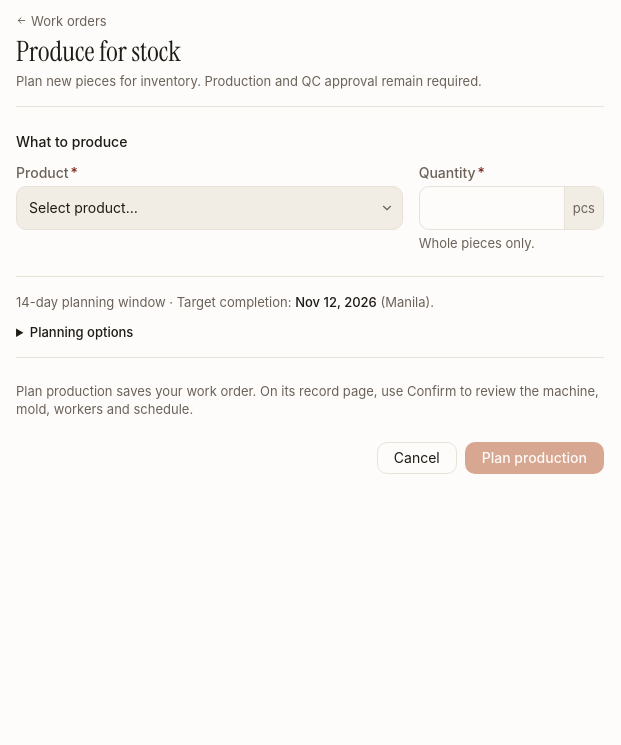
Scenario: preserves entered values after stale setup fails and refreshes product readiness
Select "PC-001 · Cover" in the dropdown labelled "Product*" at {"x": 209, "y": 208}, box [17,186,402,228]
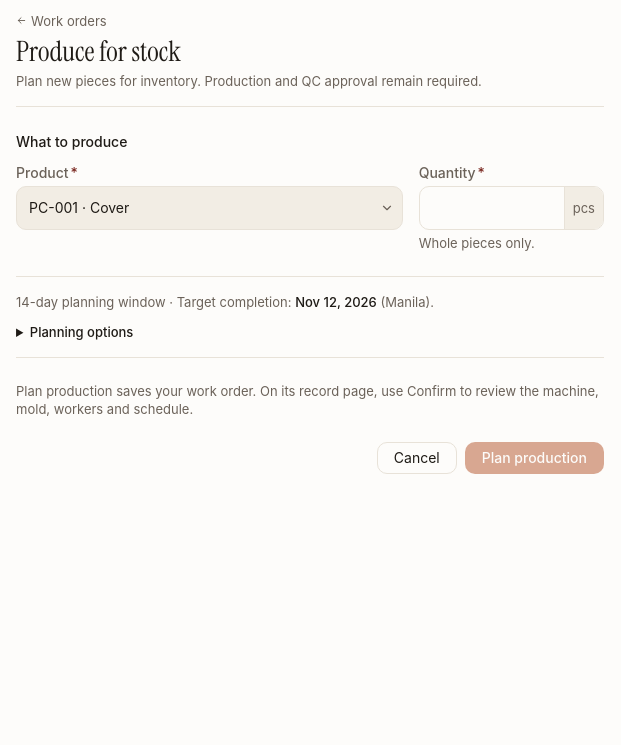
Type "3" into the number field labelled "Quantity*" at {"x": 492, "y": 208}, box [420,186,564,228]
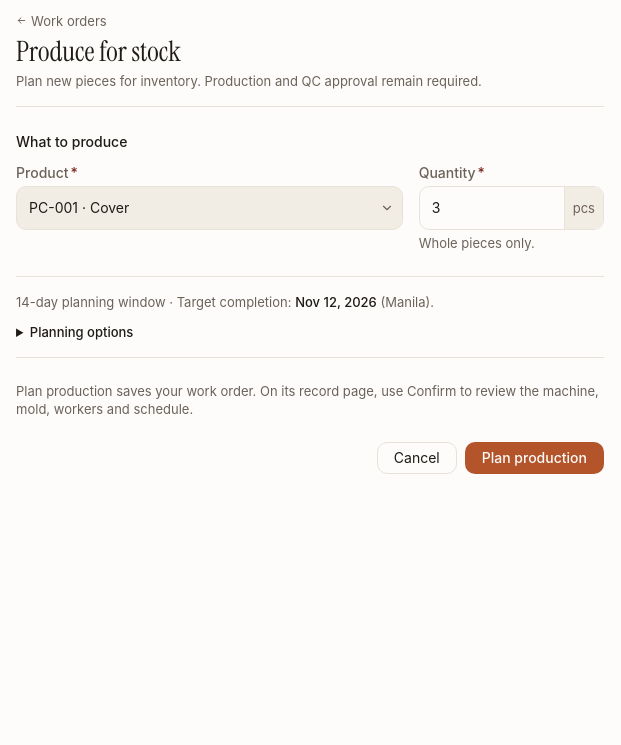
Click the heading "Planning options" at {"x": 75, "y": 332}, box [16,323,133,341]
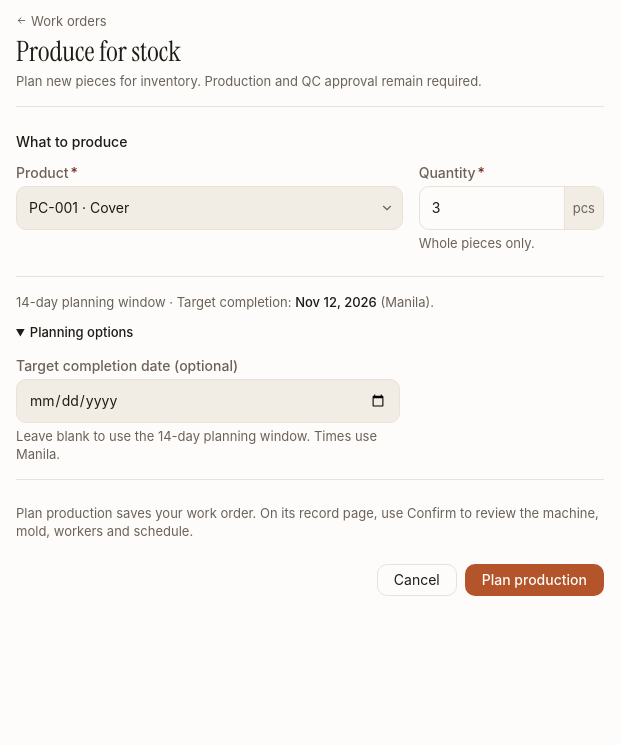
Type "2099-10-20" into the date field labelled "Target completion date (optional)" at {"x": 208, "y": 401}, box [17,380,399,422]
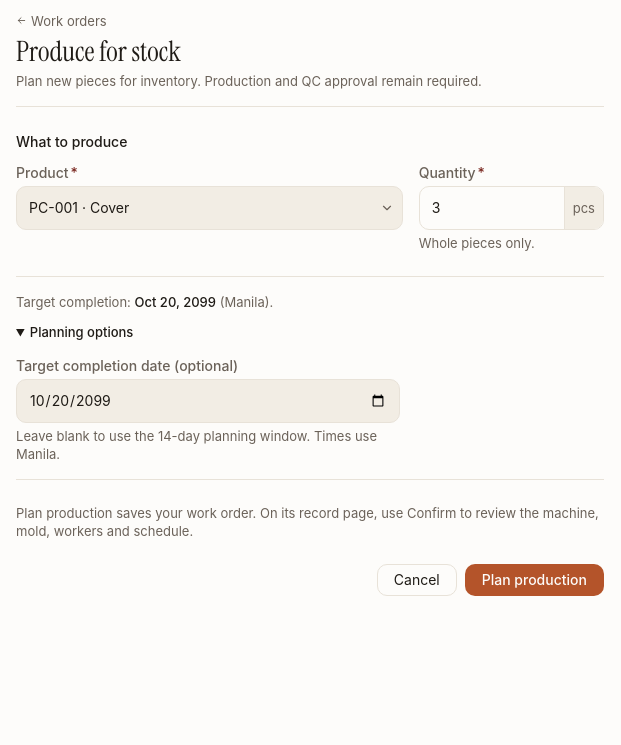
Click the button "Plan production" at {"x": 534, "y": 580}, box [465,564,604,596]
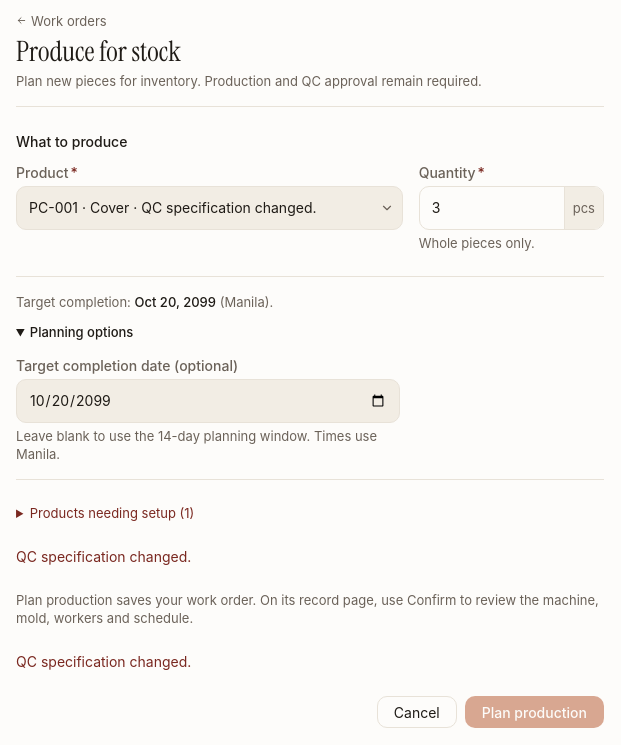
Now the heading "Products needing setup (1)" is shown, box [30,505,194,521]
Now the button "Plan production" is disabled, box [465,696,604,728]
